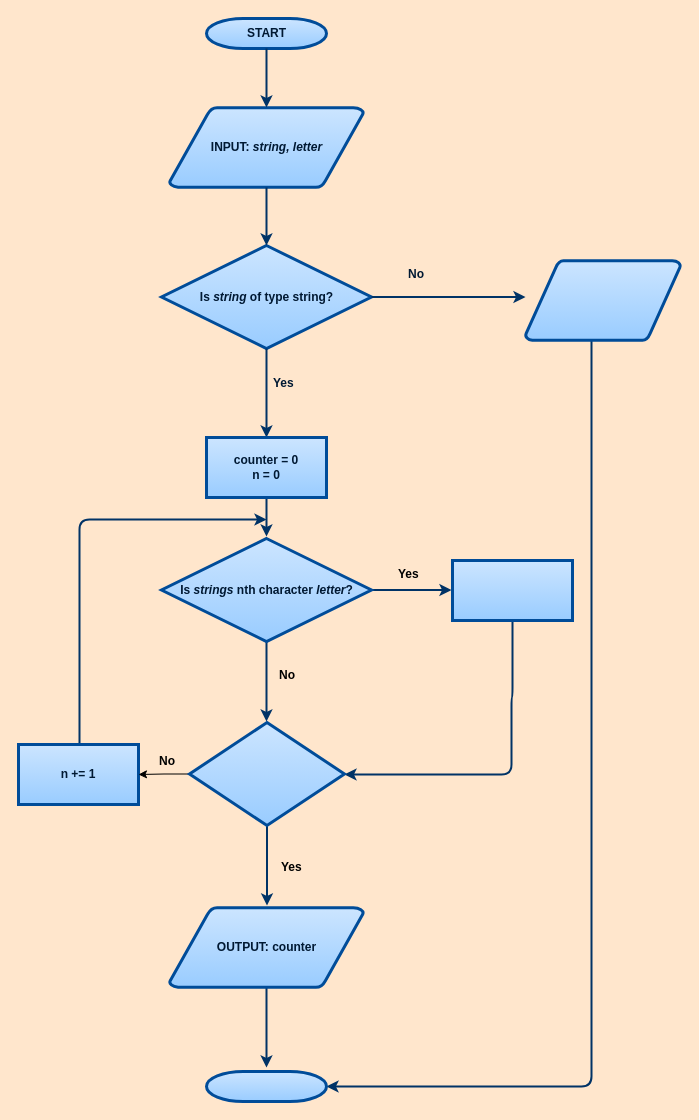
Some shapes in this 699 by 1120 pixel diagram are drawn without their labels. The centre of each missing label's shape, as x and y in pixels:
"Am I on last letter?" belongs at point (267, 773).
"counter += 1" belongs at point (512, 590).
"RETURN 0" belongs at point (603, 300).
"STOP" belongs at point (266, 1086).
